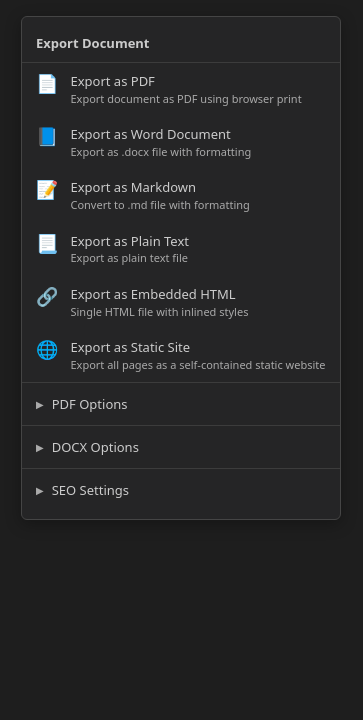
Test: ExportDialog.vue › DOCX Options Section › expands DOCX options when toggle is clicked
Click the button with class "docx-options-toggle".
click(87, 447)  # box [36,434,139,460]
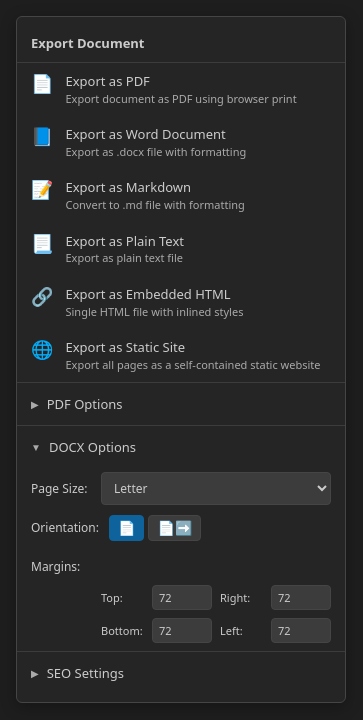
Check: the element with class "docx-options-content" is shown, box [31,472,331,643]
